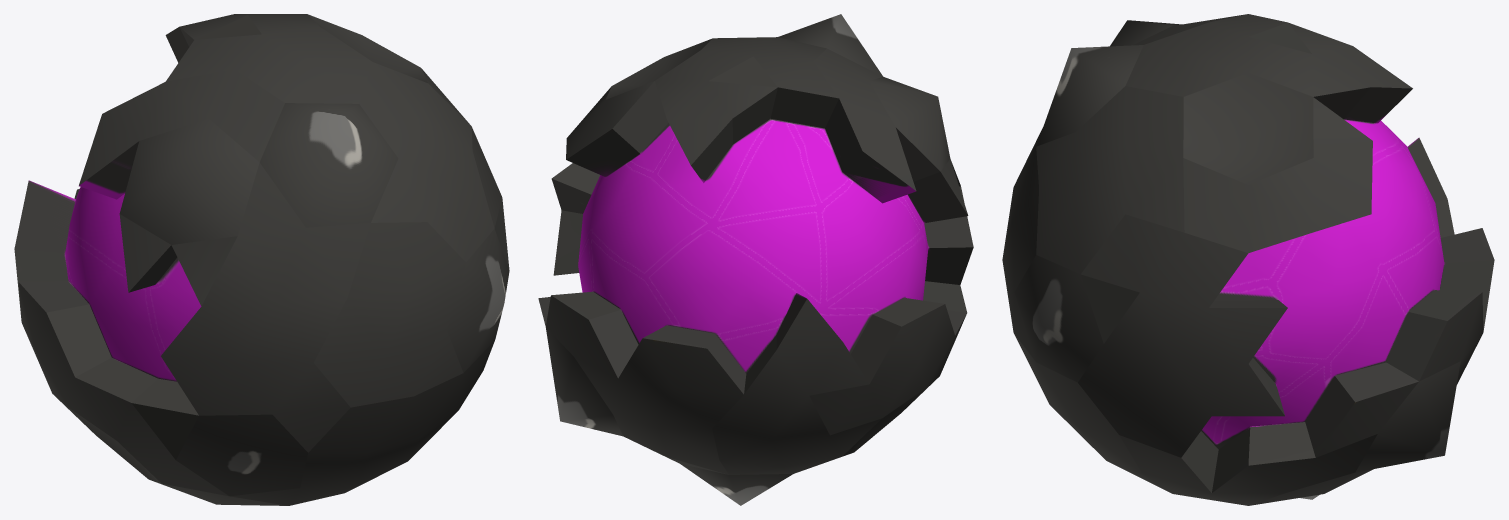
The model's file is RuneBall.FBX.
3 renders of one model, left to right at view 1: azimuth 30°, elevation 25°; view 2: azimuth 150°, elevation 25°; view 3: azimuth 270°, elevation 25°, orthographic. The views are drawn at different scales.
Visible parts, largest first — view 1: Rune001; view 2: Rune001; view 3: Rune001.
Boxes of the visible parts, x1=… form: Rune001: x1=14, y1=14, x2=509, y2=505; Rune001: x1=538, y1=14, x2=973, y2=505; Rune001: x1=1002, y1=14, x2=1494, y2=505.
Bounding box in the file's own units: 6.29 × 6.65 × 6.29.
Materials: 1 (1 with a texture image).
